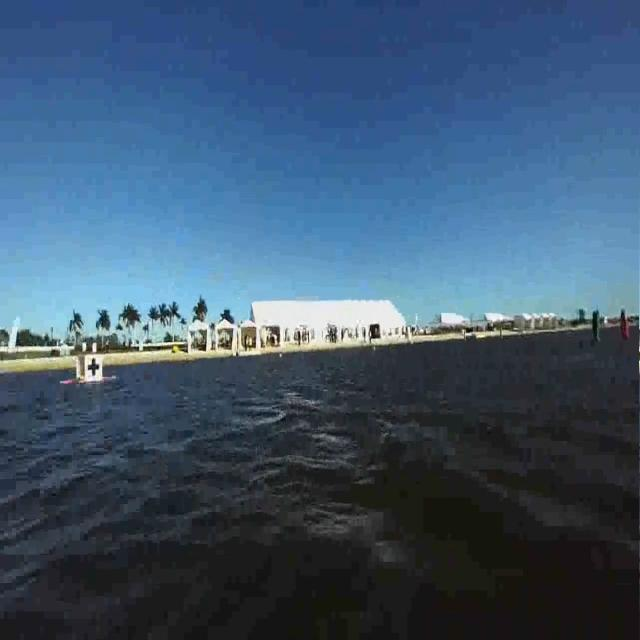green-buoy: (590, 305, 602, 349)
red-column-buoy: (619, 310, 631, 341)
